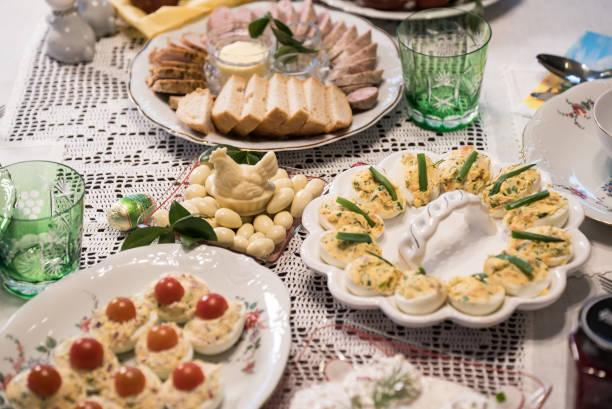Braised Crucian Carp: (297, 150, 592, 325), (0, 241, 292, 407), (126, 2, 397, 151)
